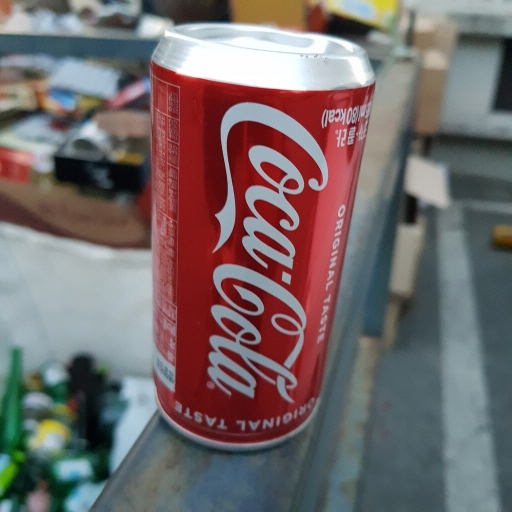Metal_0: (148, 24, 377, 452)
